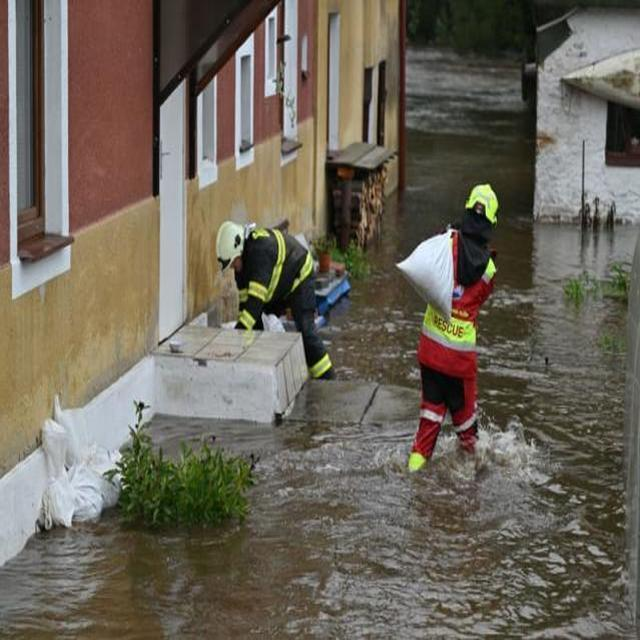Person-RiskLevel2: (401, 181, 518, 488), (202, 220, 343, 383)
